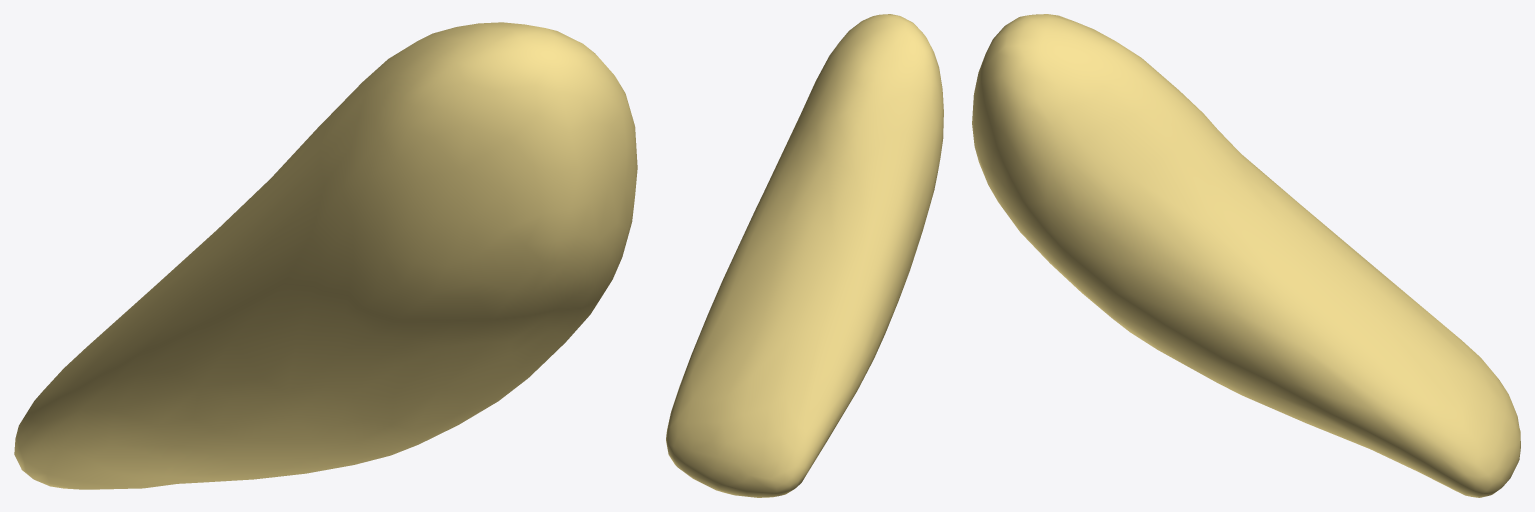
3 views of the same model, side by side, from view 1: azimuth 30°, elevation 25°; view 2: azimuth 150°, elevation 25°; view 3: azimuth 270°, elevation 25° (orthographic). The views are drawn at different scales.
Visible parts, largest first — view 1: ZA_af3e0b33e6535ebb; view 2: ZA_af3e0b33e6535ebb; view 3: ZA_af3e0b33e6535ebb.
Part boxes in pixels (x1,y1,x2,y2): ZA_af3e0b33e6535ebb: (14, 22, 637, 489); ZA_af3e0b33e6535ebb: (666, 14, 943, 497); ZA_af3e0b33e6535ebb: (972, 14, 1520, 497).
Size of the model in its own units: 0.0077 by 0.0158 by 0.0171.
